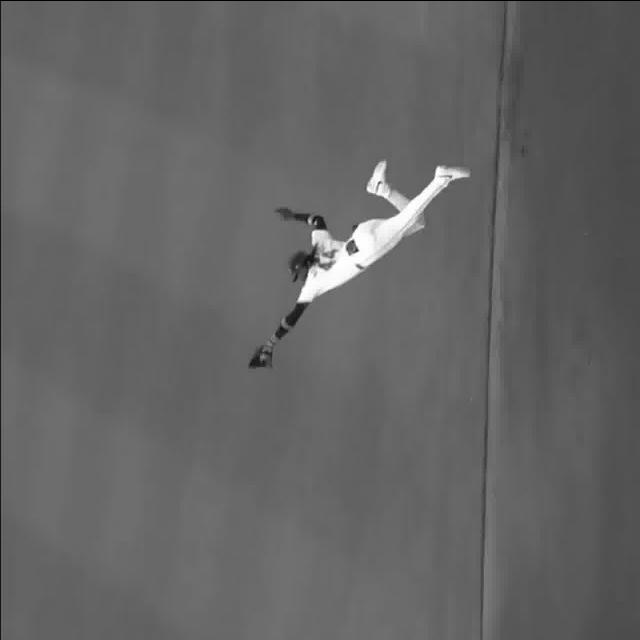baseball_glove: (246, 346, 274, 371)
shoe: (366, 156, 390, 200), (434, 163, 474, 180)
